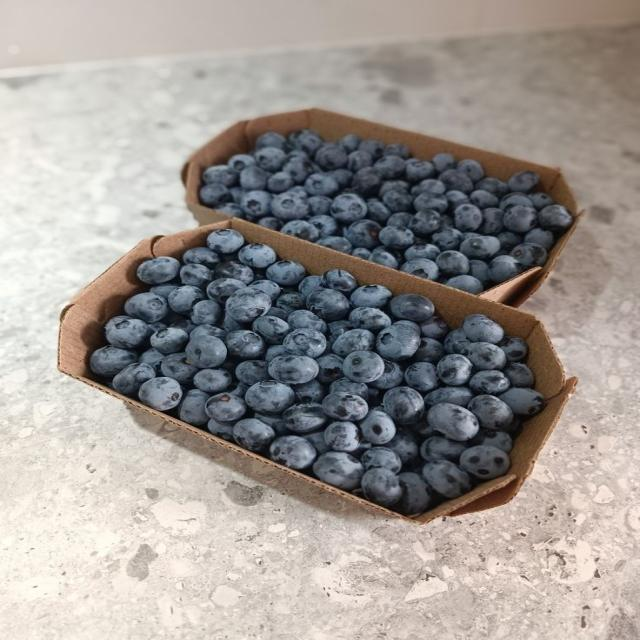blueberry: (427, 403, 479, 441), (313, 452, 364, 490), (423, 461, 472, 499), (460, 445, 510, 479), (393, 472, 431, 515), (376, 323, 419, 361), (246, 381, 295, 413), (468, 395, 513, 429), (226, 288, 271, 322), (361, 468, 401, 506), (270, 436, 316, 469), (383, 387, 424, 424), (268, 355, 319, 384), (90, 346, 137, 377), (139, 378, 182, 411), (106, 316, 149, 349), (282, 403, 328, 433), (113, 363, 155, 395), (500, 387, 546, 416), (234, 419, 275, 451), (343, 350, 384, 382), (185, 336, 226, 368), (307, 290, 349, 321), (125, 293, 169, 322), (420, 436, 466, 463), (322, 393, 368, 420), (390, 294, 434, 322), (462, 342, 506, 370), (225, 330, 266, 360), (360, 410, 396, 444), (462, 314, 504, 343), (284, 329, 326, 358), (160, 353, 199, 384), (437, 353, 473, 386), (271, 190, 309, 221), (333, 329, 375, 357), (206, 393, 246, 422), (178, 389, 209, 426), (137, 257, 179, 284), (252, 316, 291, 345), (386, 432, 419, 465), (325, 422, 361, 452), (361, 447, 401, 474), (349, 308, 392, 333), (167, 285, 205, 313), (405, 362, 439, 393), (150, 327, 189, 354), (330, 194, 366, 223), (469, 370, 510, 395), (503, 205, 538, 234), (346, 220, 381, 249), (207, 278, 246, 304), (470, 430, 513, 453), (267, 261, 306, 286), (351, 285, 393, 308), (194, 369, 232, 394), (207, 229, 245, 254), (239, 243, 277, 268), (489, 256, 524, 283), (216, 188, 246, 219), (240, 190, 272, 219), (370, 361, 403, 389), (460, 236, 500, 259), (288, 129, 323, 155), (322, 269, 357, 295), (287, 310, 326, 333), (329, 378, 369, 400), (352, 168, 381, 198), (409, 210, 440, 238), (436, 250, 468, 277), (280, 220, 319, 242), (413, 338, 446, 364), (314, 144, 347, 170), (235, 361, 270, 385), (511, 243, 547, 266), (439, 169, 473, 193), (305, 173, 339, 197), (454, 204, 483, 232), (283, 157, 313, 184), (254, 147, 286, 172), (202, 165, 238, 187), (498, 336, 528, 362), (503, 363, 534, 388), (374, 155, 405, 180), (190, 300, 221, 325), (200, 183, 232, 207), (293, 380, 326, 403), (445, 275, 484, 294), (381, 189, 413, 212), (414, 192, 449, 213), (405, 158, 434, 183), (308, 214, 338, 238), (432, 228, 463, 251), (508, 170, 539, 193), (254, 412, 286, 434), (249, 280, 281, 302), (139, 348, 165, 375), (477, 208, 504, 234), (302, 432, 331, 456), (524, 228, 554, 251), (159, 318, 197, 336), (469, 260, 493, 288), (420, 316, 449, 339), (444, 328, 470, 353), (326, 320, 353, 344), (276, 292, 306, 313), (476, 178, 509, 197), (240, 166, 267, 189), (456, 160, 484, 182), (370, 247, 399, 268), (367, 199, 391, 224), (469, 189, 499, 209), (405, 243, 440, 260), (267, 171, 294, 193), (255, 132, 288, 150), (207, 419, 234, 441), (500, 192, 531, 211), (445, 190, 474, 210), (412, 179, 446, 196), (359, 139, 385, 161), (347, 150, 373, 172), (496, 231, 523, 251), (221, 314, 245, 336), (227, 154, 255, 172), (308, 196, 332, 216), (150, 281, 179, 297), (331, 168, 353, 189), (528, 192, 553, 210), (432, 153, 455, 172), (338, 134, 361, 153), (190, 325, 226, 337), (383, 143, 409, 159), (266, 306, 289, 321), (257, 216, 281, 230), (396, 320, 419, 334)
